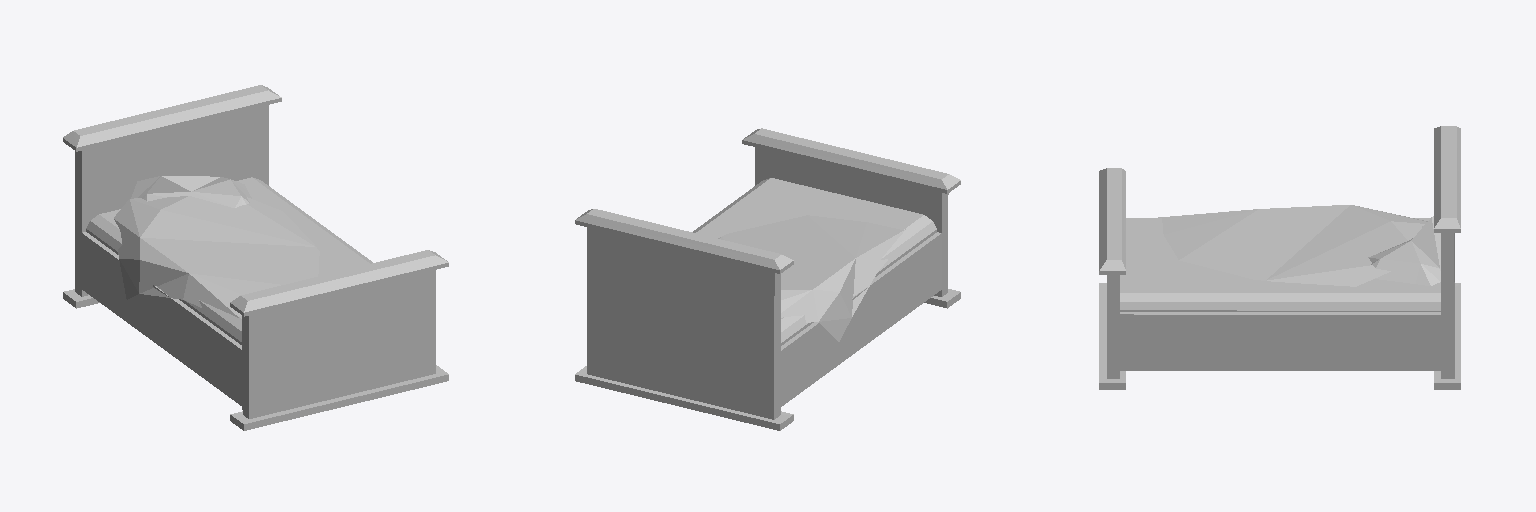
File: bed.obj
The picture shows the model from 3 angles: view 1: azimuth 30°, elevation 25°; view 2: azimuth 150°, elevation 25°; view 3: azimuth 270°, elevation 25°; orthographic projection.
Visible parts, largest first — view 1: bed; view 2: bed; view 3: bed.
Boxes of the visible parts, box(x1,y1,x2,y2) form: bed: box(63, 85, 448, 430); bed: box(575, 128, 960, 430); bed: box(1099, 126, 1460, 389).
Bounding box in the file's own units: 2.01 × 1.57 × 3.08.